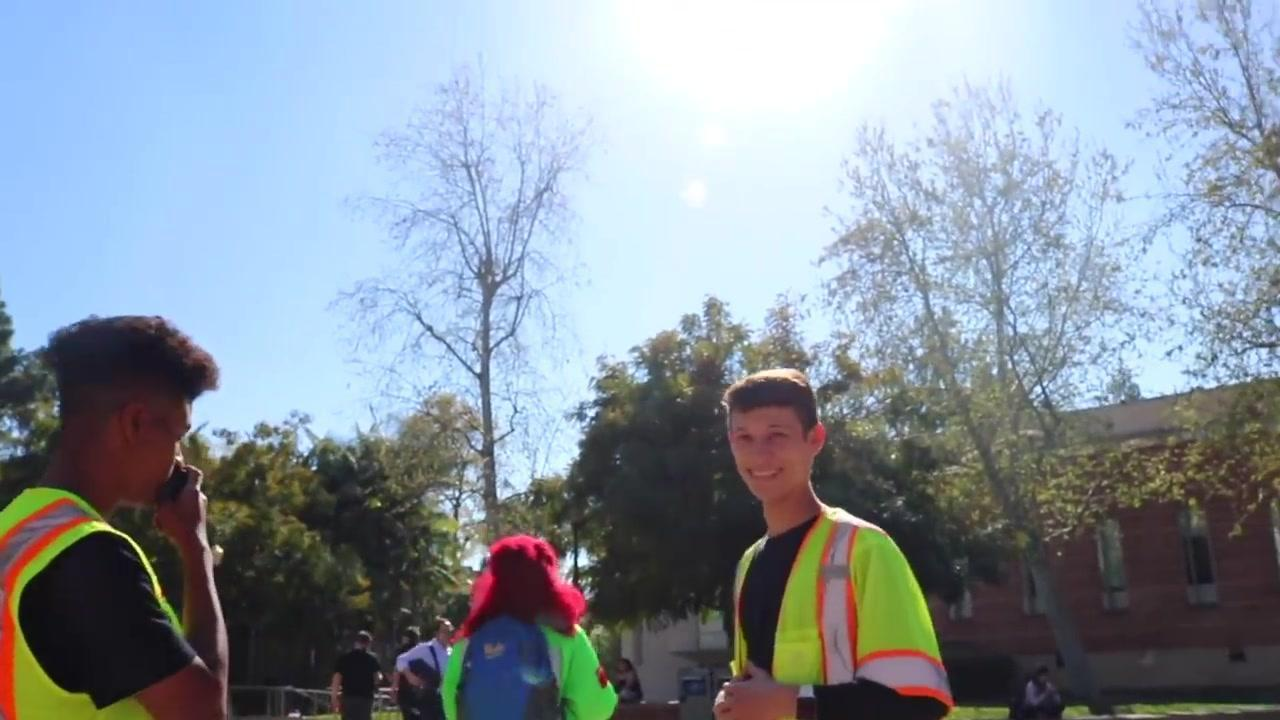vest: (727, 502, 952, 718), (0, 486, 184, 719)
